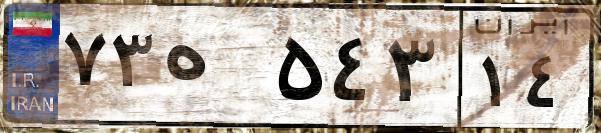1: (475, 38, 525, 113)
3: (385, 28, 445, 110), (110, 28, 158, 98)
4: (330, 28, 385, 110), (525, 38, 570, 115)
5: (270, 28, 330, 110)
7: (57, 26, 110, 100)
ه: (158, 20, 270, 120)
